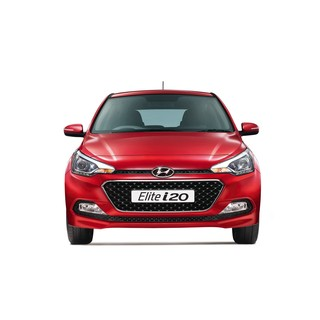car: (63, 90, 263, 245)
